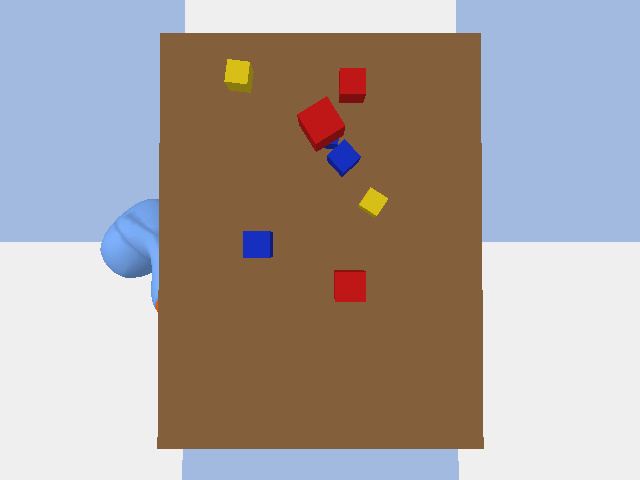blue_obj: (327, 139, 360, 176), (243, 231, 272, 257), (324, 138, 338, 148)
red_obj: (297, 96, 344, 151), (334, 270, 365, 301), (339, 68, 365, 102)
yellow_obj: (224, 59, 253, 92), (358, 187, 387, 217)
